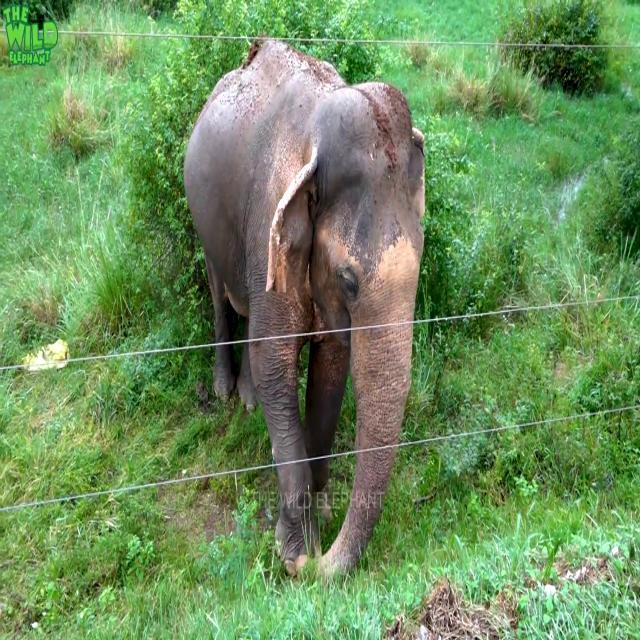Elephant: (183, 34, 426, 585)
